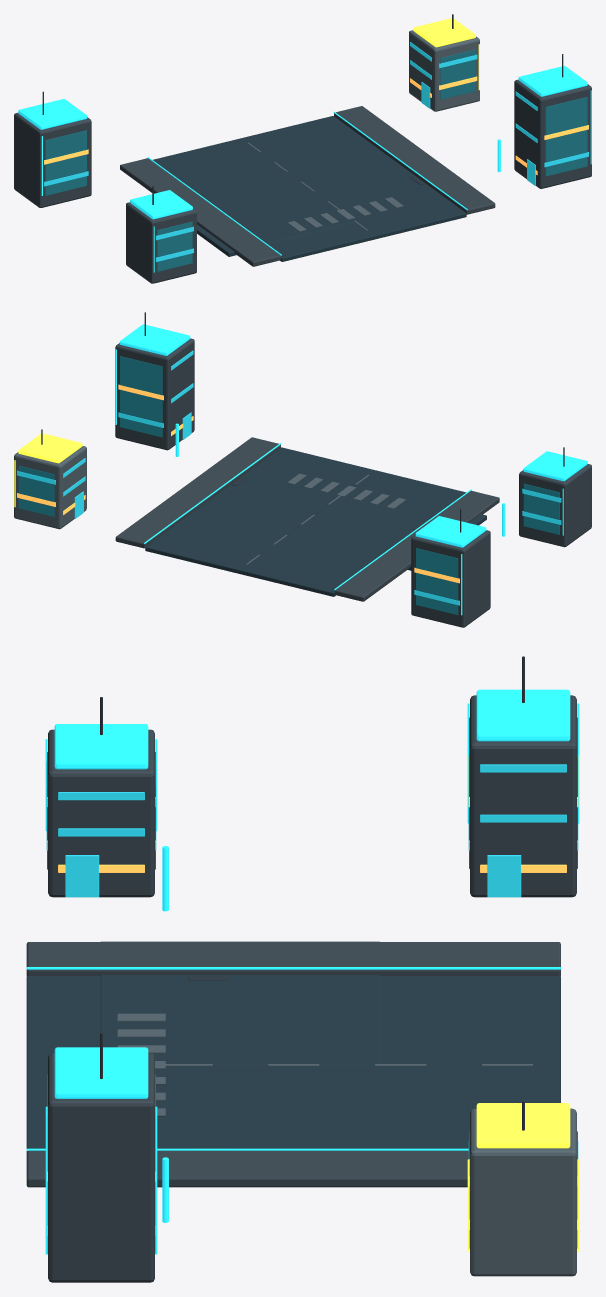
The model's file is corner_right_lod1.glb.
3 views of the same model, one above another, from view 1: azimuth 30°, elevation 25°; view 2: azimuth 150°, elevation 25°; view 3: azimuth 270°, elevation 25° (orthographic). The views are drawn at different scales.
Parts seen in each view (by area): view 1: ND_Batch_ND_WetAsphalt, ND_Batch_ND_CityConcrete, ND_Batch_ND_RoadEdge, ND_Batch_ND_DarkGlass, ND_Batch_ND_CityCyanMuted, ND_Batch_ND_CityConcreteLight, ND_Batch_ND_NeonGlass, ND_Batch_ND_PackageGold, ND_Batch_ND_WarmWindow; view 2: ND_Batch_ND_WetAsphalt, ND_Batch_ND_CityConcrete, ND_Batch_ND_RoadEdge, ND_Batch_ND_DarkGlass, ND_Batch_ND_CityCyanMuted, ND_Batch_ND_CityConcreteLight, ND_Batch_ND_NeonGlass, ND_Batch_ND_PackageGold, ND_Batch_ND_WarmWindow; view 3: ND_Batch_ND_WetAsphalt, ND_Batch_ND_CityConcrete, ND_Batch_ND_RoadEdge, ND_Batch_ND_CityCyanMuted, ND_Batch_ND_CityConcreteLight, ND_Batch_ND_NeonGlass, ND_Batch_ND_PackageGold, ND_Batch_ND_WarmWindow, ND_Batch_ND_DarkGlass.
Part boxes in pixels (x1,y1,x2,y2): ND_Batch_ND_WetAsphalt: [153, 116, 466, 261]; ND_Batch_ND_CityConcrete: [14, 79, 591, 283]; ND_Batch_ND_RoadEdge: [120, 106, 495, 266]; ND_Batch_ND_DarkGlass: [45, 49, 587, 271]; ND_Batch_ND_CityCyanMuted: [18, 66, 591, 272]; ND_Batch_ND_CityConcreteLight: [247, 30, 479, 231]; ND_Batch_ND_NeonGlass: [44, 42, 588, 262]; ND_Batch_ND_PackageGold: [413, 18, 479, 90]; ND_Batch_ND_WarmWindow: [44, 76, 588, 175]; ND_Batch_ND_WetAsphalt: [145, 447, 486, 596]; ND_Batch_ND_CityConcrete: [115, 338, 591, 627]; ND_Batch_ND_RoadEdge: [115, 437, 499, 601]; ND_Batch_ND_DarkGlass: [18, 356, 559, 614]; ND_Batch_ND_CityCyanMuted: [115, 324, 587, 615]; ND_Batch_ND_CityConcreteLight: [14, 446, 405, 564]; ND_Batch_ND_NeonGlass: [17, 350, 561, 605]; ND_Batch_ND_PackageGold: [14, 433, 82, 507]; ND_Batch_ND_WarmWindow: [17, 384, 459, 583]; ND_Batch_ND_WetAsphalt: [26, 941, 560, 1152]; ND_Batch_ND_CityConcrete: [48, 695, 576, 1282]; ND_Batch_ND_RoadEdge: [26, 942, 560, 1187]; ND_Batch_ND_CityCyanMuted: [26, 689, 579, 1254]; ND_Batch_ND_CityConcreteLight: [117, 1013, 576, 1276]; ND_Batch_ND_NeonGlass: [46, 762, 578, 1235]; ND_Batch_ND_PackageGold: [467, 1103, 579, 1251]; ND_Batch_ND_WarmWindow: [47, 755, 578, 1229]; ND_Batch_ND_DarkGlass: [47, 717, 577, 1253].
Bounding box in the file's own units: 38.7 × 10.03 × 20.69.
